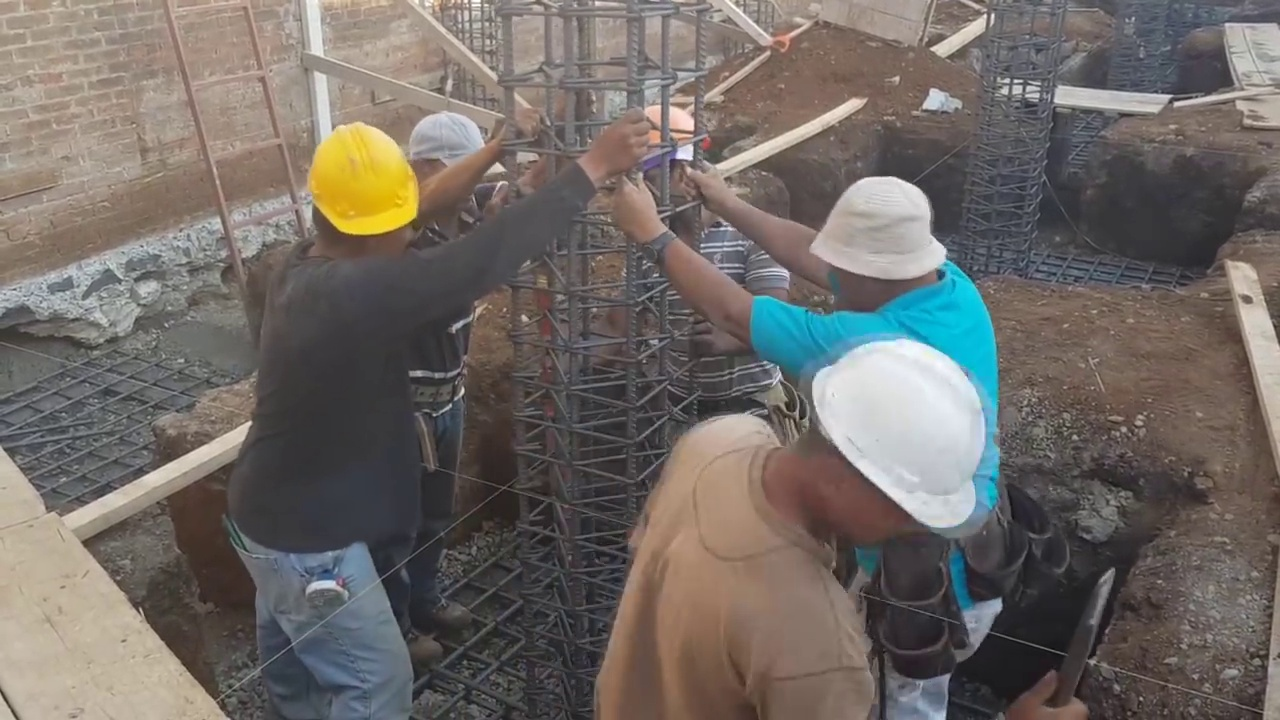helmet: (810, 340, 985, 527), (307, 122, 417, 238), (633, 100, 716, 152)
helmet-off: (808, 174, 951, 315), (409, 111, 502, 224)
helmet-on: (757, 340, 987, 551), (296, 119, 420, 266), (628, 102, 716, 225)
person: (236, 111, 650, 717), (610, 164, 1005, 718), (590, 345, 1087, 717), (388, 118, 512, 671), (630, 96, 796, 455)
